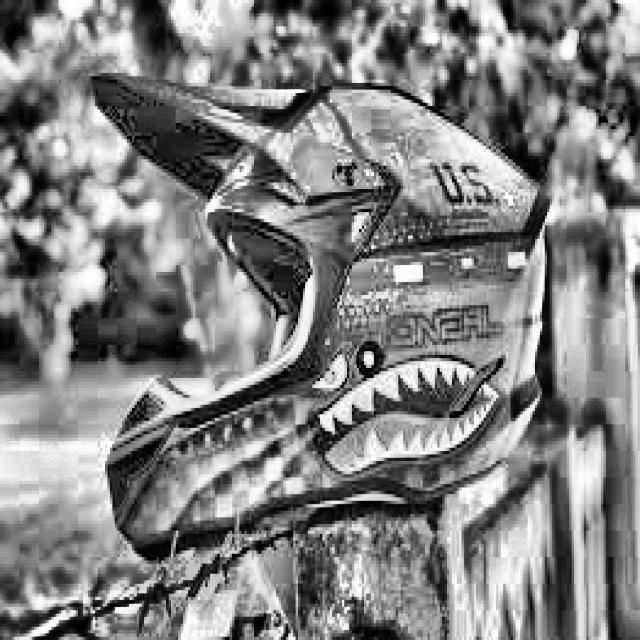Helmet: (73, 35, 569, 571)
